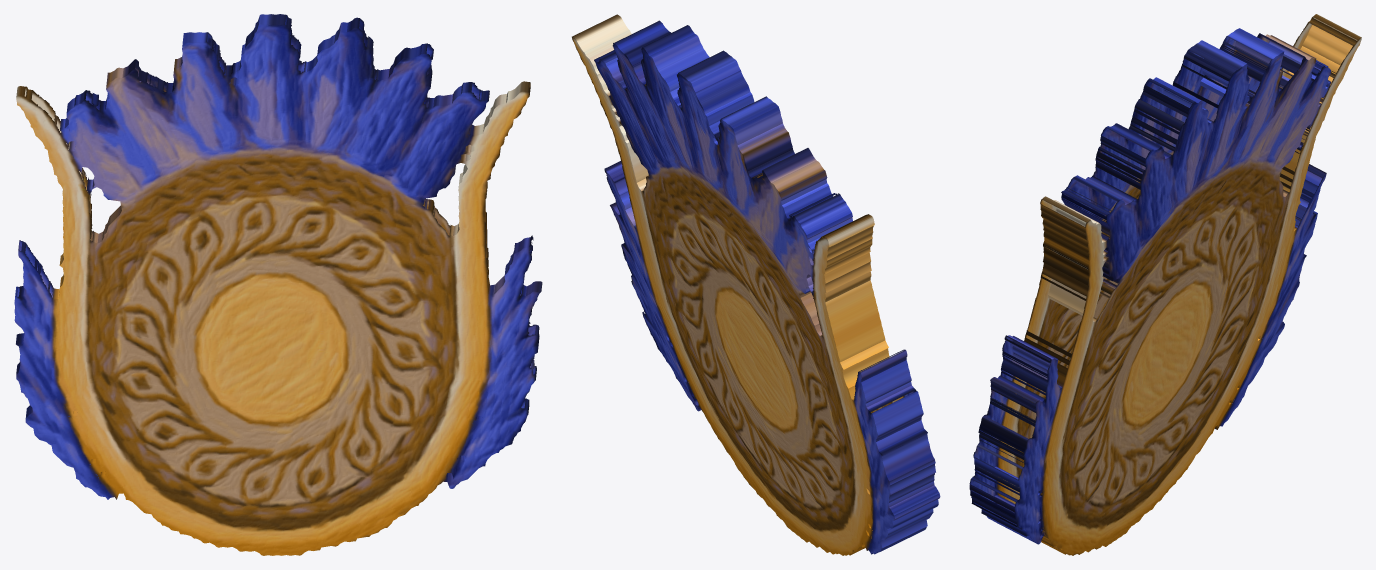
File: diana_egipcia.fbx
3 renders of one model, left to right at view 1: azimuth 30°, elevation 25°; view 2: azimuth 150°, elevation 25°; view 3: azimuth 270°, elevation 25°, orthographic. The views are drawn at different scales.
Visible parts, largest first — view 1: diana_egipciaV4; view 2: diana_egipciaV4; view 3: diana_egipciaV4.
Boxes of the visible parts, x1=… form: diana_egipciaV4: x1=14, y1=14, x2=542, y2=555; diana_egipciaV4: x1=572, y1=14, x2=940, y2=555; diana_egipciaV4: x1=969, y1=14, x2=1361, y2=555.
Size of the model in its own units: 50.42 by 54.14 by 37.77.
Materials: 1 (1 with a texture image).
